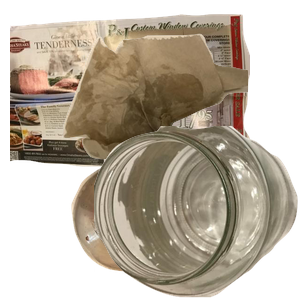glass: (94, 126, 300, 300)
paper: (10, 11, 250, 180)
plastic: (69, 161, 245, 300)
trash: (60, 31, 300, 189)
